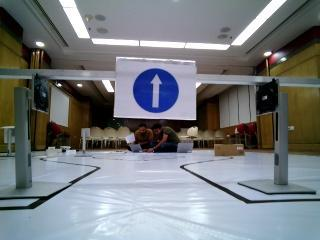straight: (116, 57, 197, 117)
